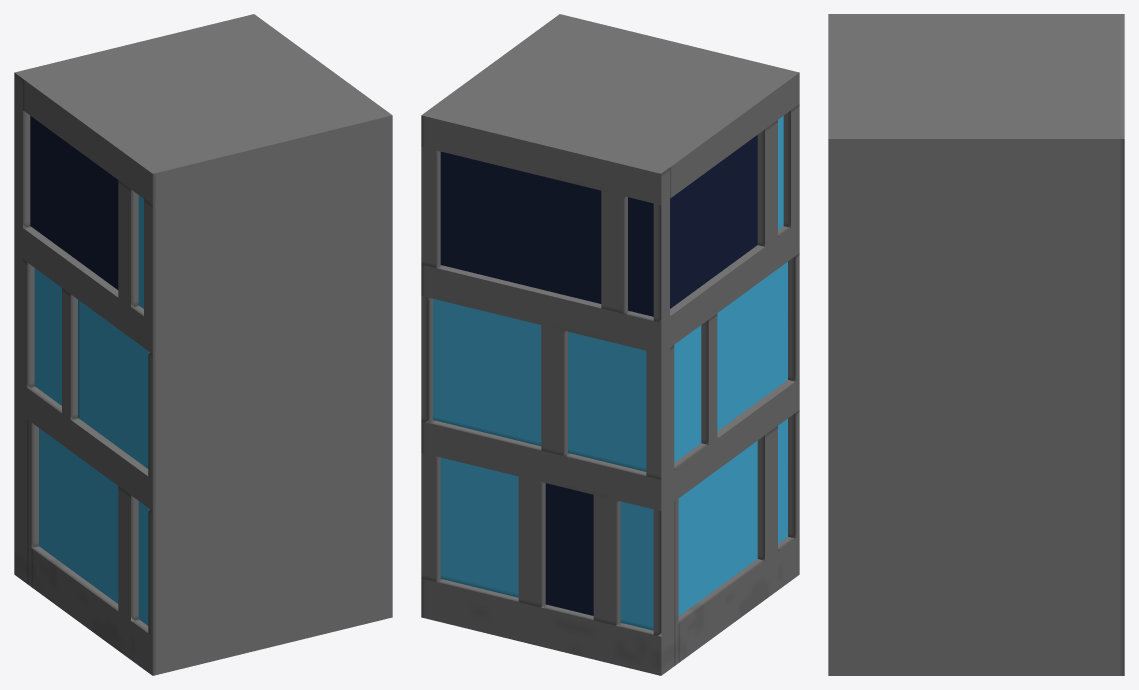
The model's file is BOK_PIĘTRO.dae.
3 views of the same model, side by side, from view 1: azimuth 30°, elevation 25°; view 2: azimuth 150°, elevation 25°; view 3: azimuth 270°, elevation 25° (orthographic). The views are drawn at different scales.
Parts seen in each view (by area): view 1: Content; view 2: Content; view 3: Content.
Part boxes in pixels (x1,y1,x2,y2): Content: [14, 14, 392, 675]; Content: [421, 14, 799, 675]; Content: [828, 14, 1124, 675].
Size of the model in its own units: 32 by 64 by 32.
Materials: 1 (1 with a texture image).
